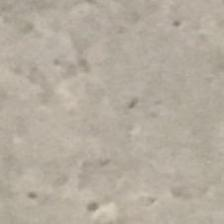Non_Crack: (21, 40, 212, 178)
